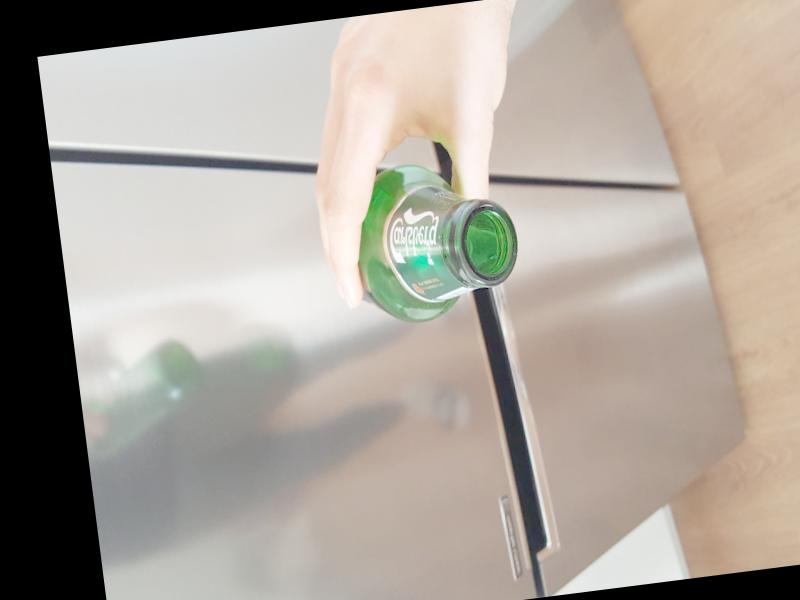Beer: (346, 156, 526, 328)
